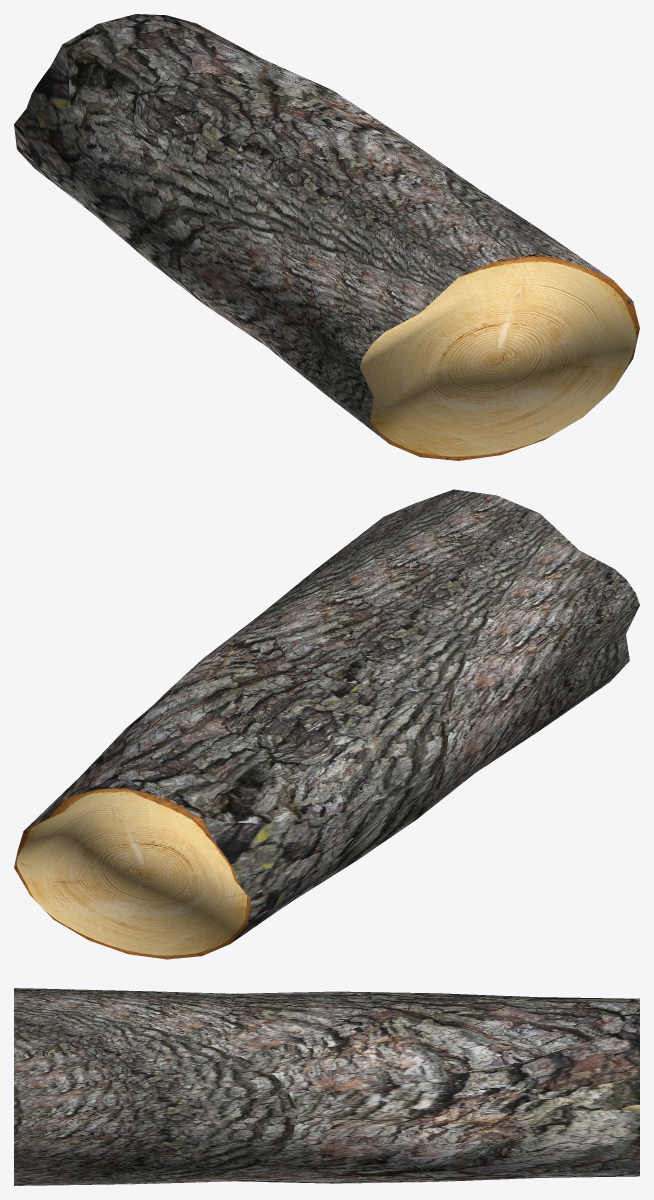
Rendered from Tronco para banco - 01.fbx.
The picture shows the model from 3 angles, top to bottom: view 1: azimuth 30°, elevation 25°; view 2: azimuth 150°, elevation 25°; view 3: azimuth 270°, elevation 25°; orthographic projection. The views are drawn at different scales.
Visible parts, largest first — view 1: Cilindro; view 2: Cilindro; view 3: Cilindro.
Part boxes in pixels (x1,y1,x2,y2): Cilindro: (14,14,639,460); Cilindro: (14,489,639,959); Cilindro: (14,988,639,1185).
Bounding box in the file's own units: 154 × 103 × 348.
Materials: 2 (2 with a texture image).
